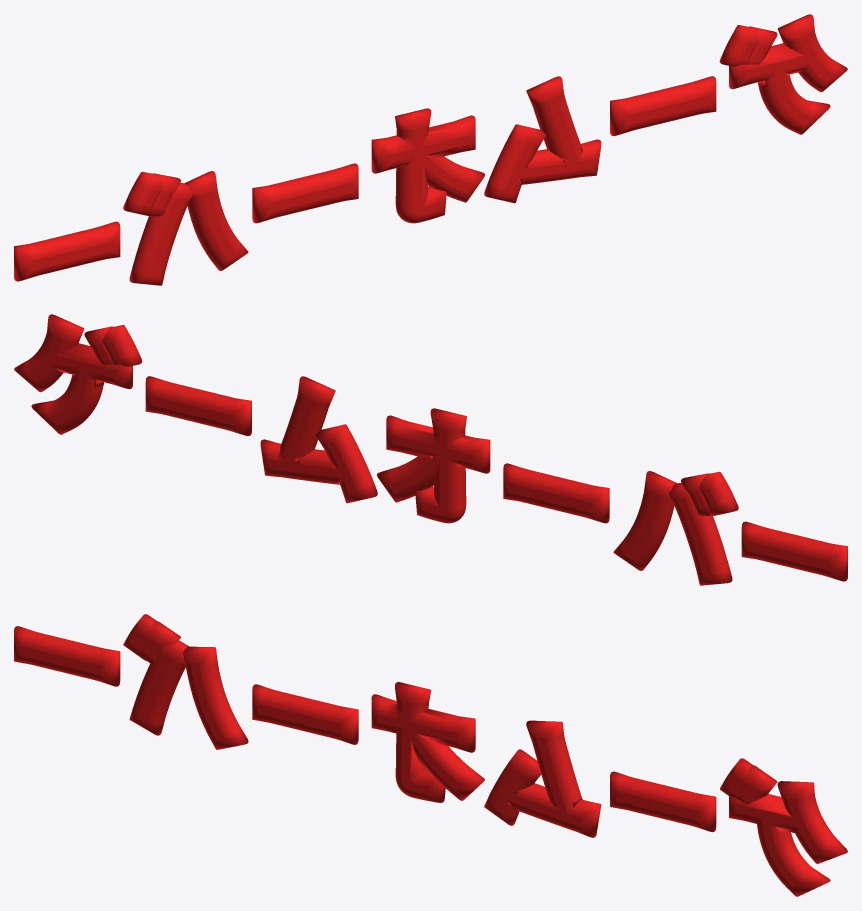
File: GameOver.obj
3 views of the same model, one above another, from view 1: azimuth 30°, elevation 25°; view 2: azimuth 150°, elevation 25°; view 3: azimuth 330°, elevation 25° (orthographic).
Visible parts, largest first — view 1: テキスト; view 2: テキスト; view 3: テキスト.
Boxes of the visible parts, bbox=[...] form: テキスト: bbox=[14, 14, 847, 285]; テキスト: bbox=[14, 314, 847, 585]; テキスト: bbox=[14, 614, 847, 896].
Bounding box in the file's own units: 8.02 × 1.13 × 0.2.
Materials: 1 (1 with a texture image).
